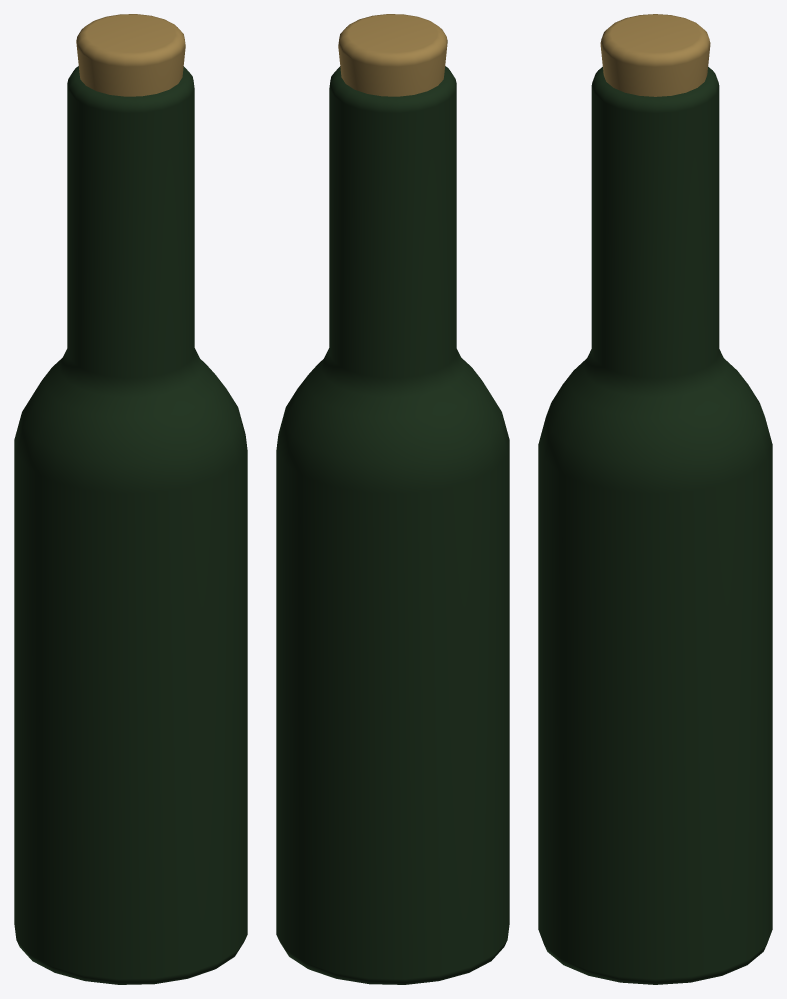
The picture shows the model from 3 angles, left to right: view 1: azimuth 30°, elevation 25°; view 2: azimuth 150°, elevation 25°; view 3: azimuth 270°, elevation 25°; orthographic projection.
Visible parts, largest first — view 1: pCylinder3 (×2); view 2: pCylinder3 (×2); view 3: pCylinder3 (×2).
Boxes of the visible parts, left/top/right/bottom form: pCylinder3 (×2): left=14, top=14, right=247, bottom=984; pCylinder3 (×2): left=276, top=14, right=509, bottom=984; pCylinder3 (×2): left=538, top=14, right=772, bottom=984.
Size of the model in its own units: 0.4701 by 2 by 0.4701.
